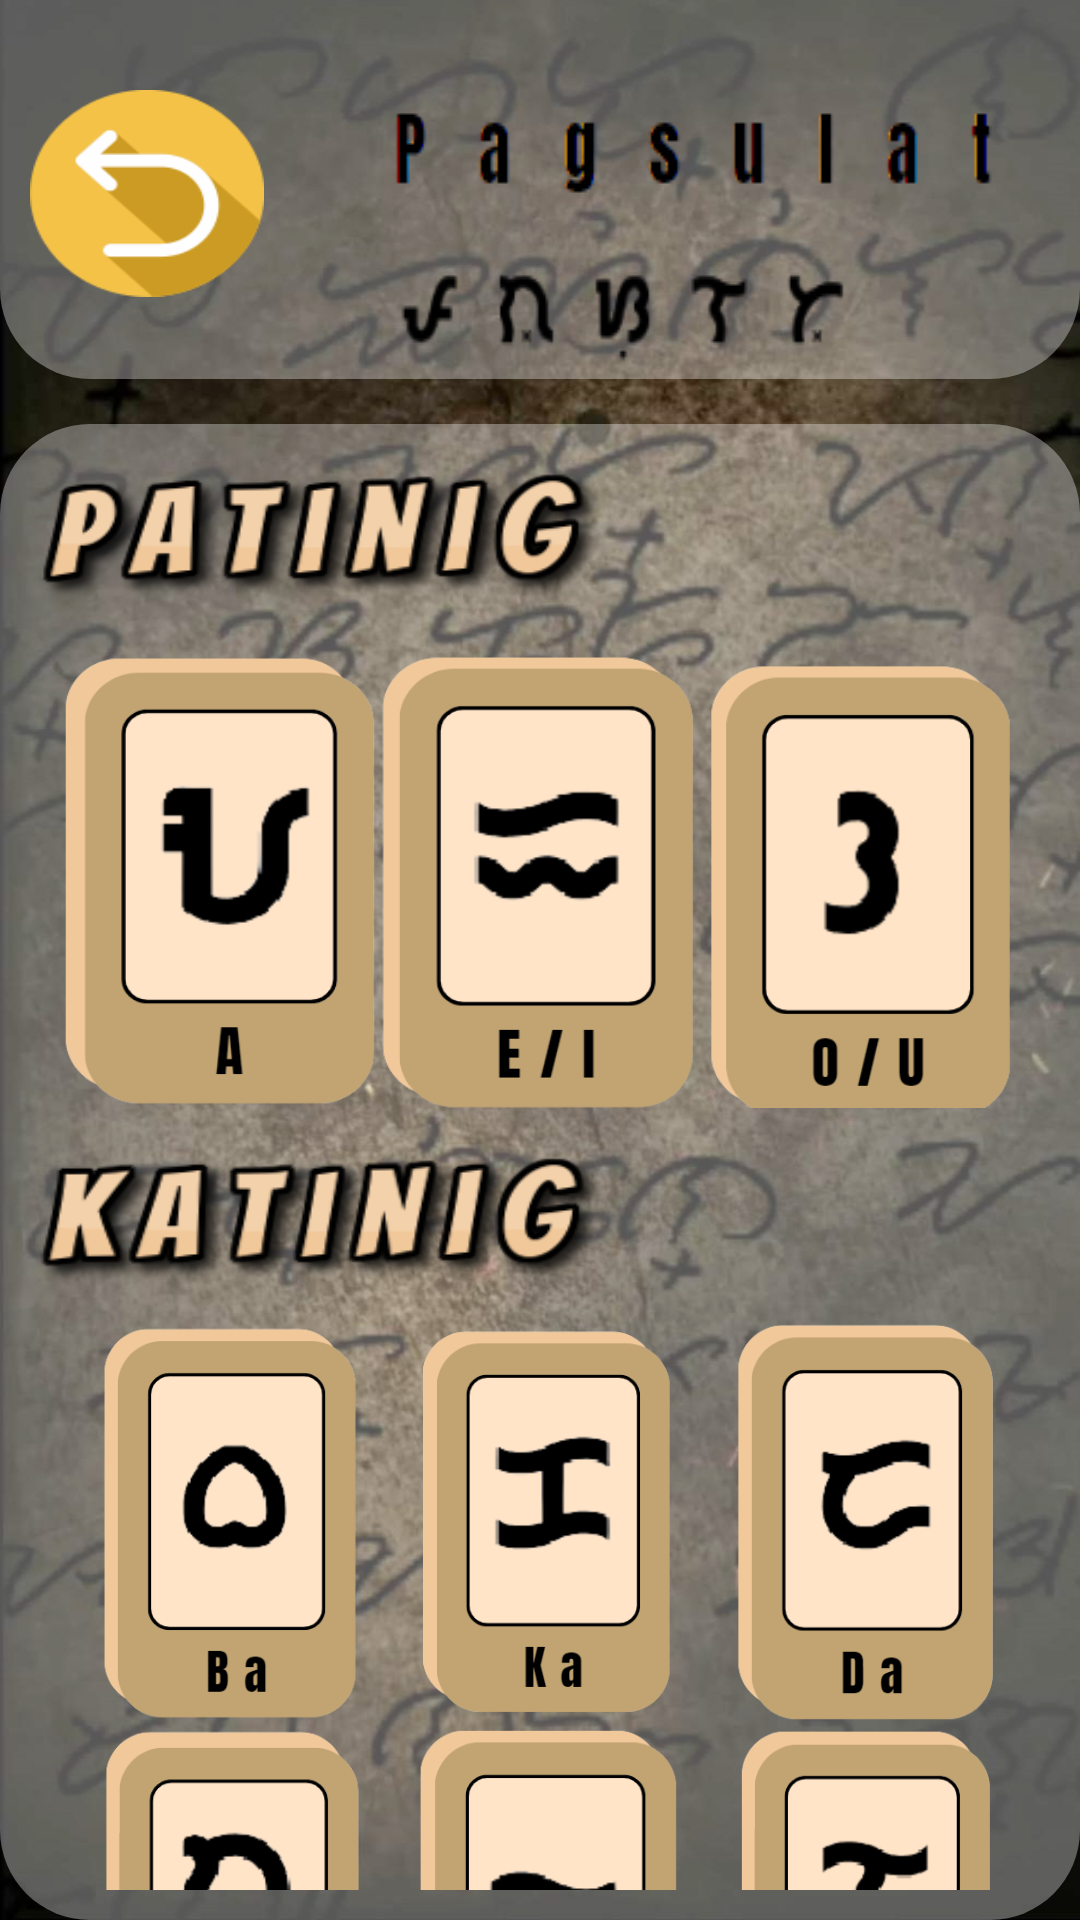

Icons on this 1080*1920 Android screen, each with the point to tap as point (x, y):
undo: point (147, 193)
